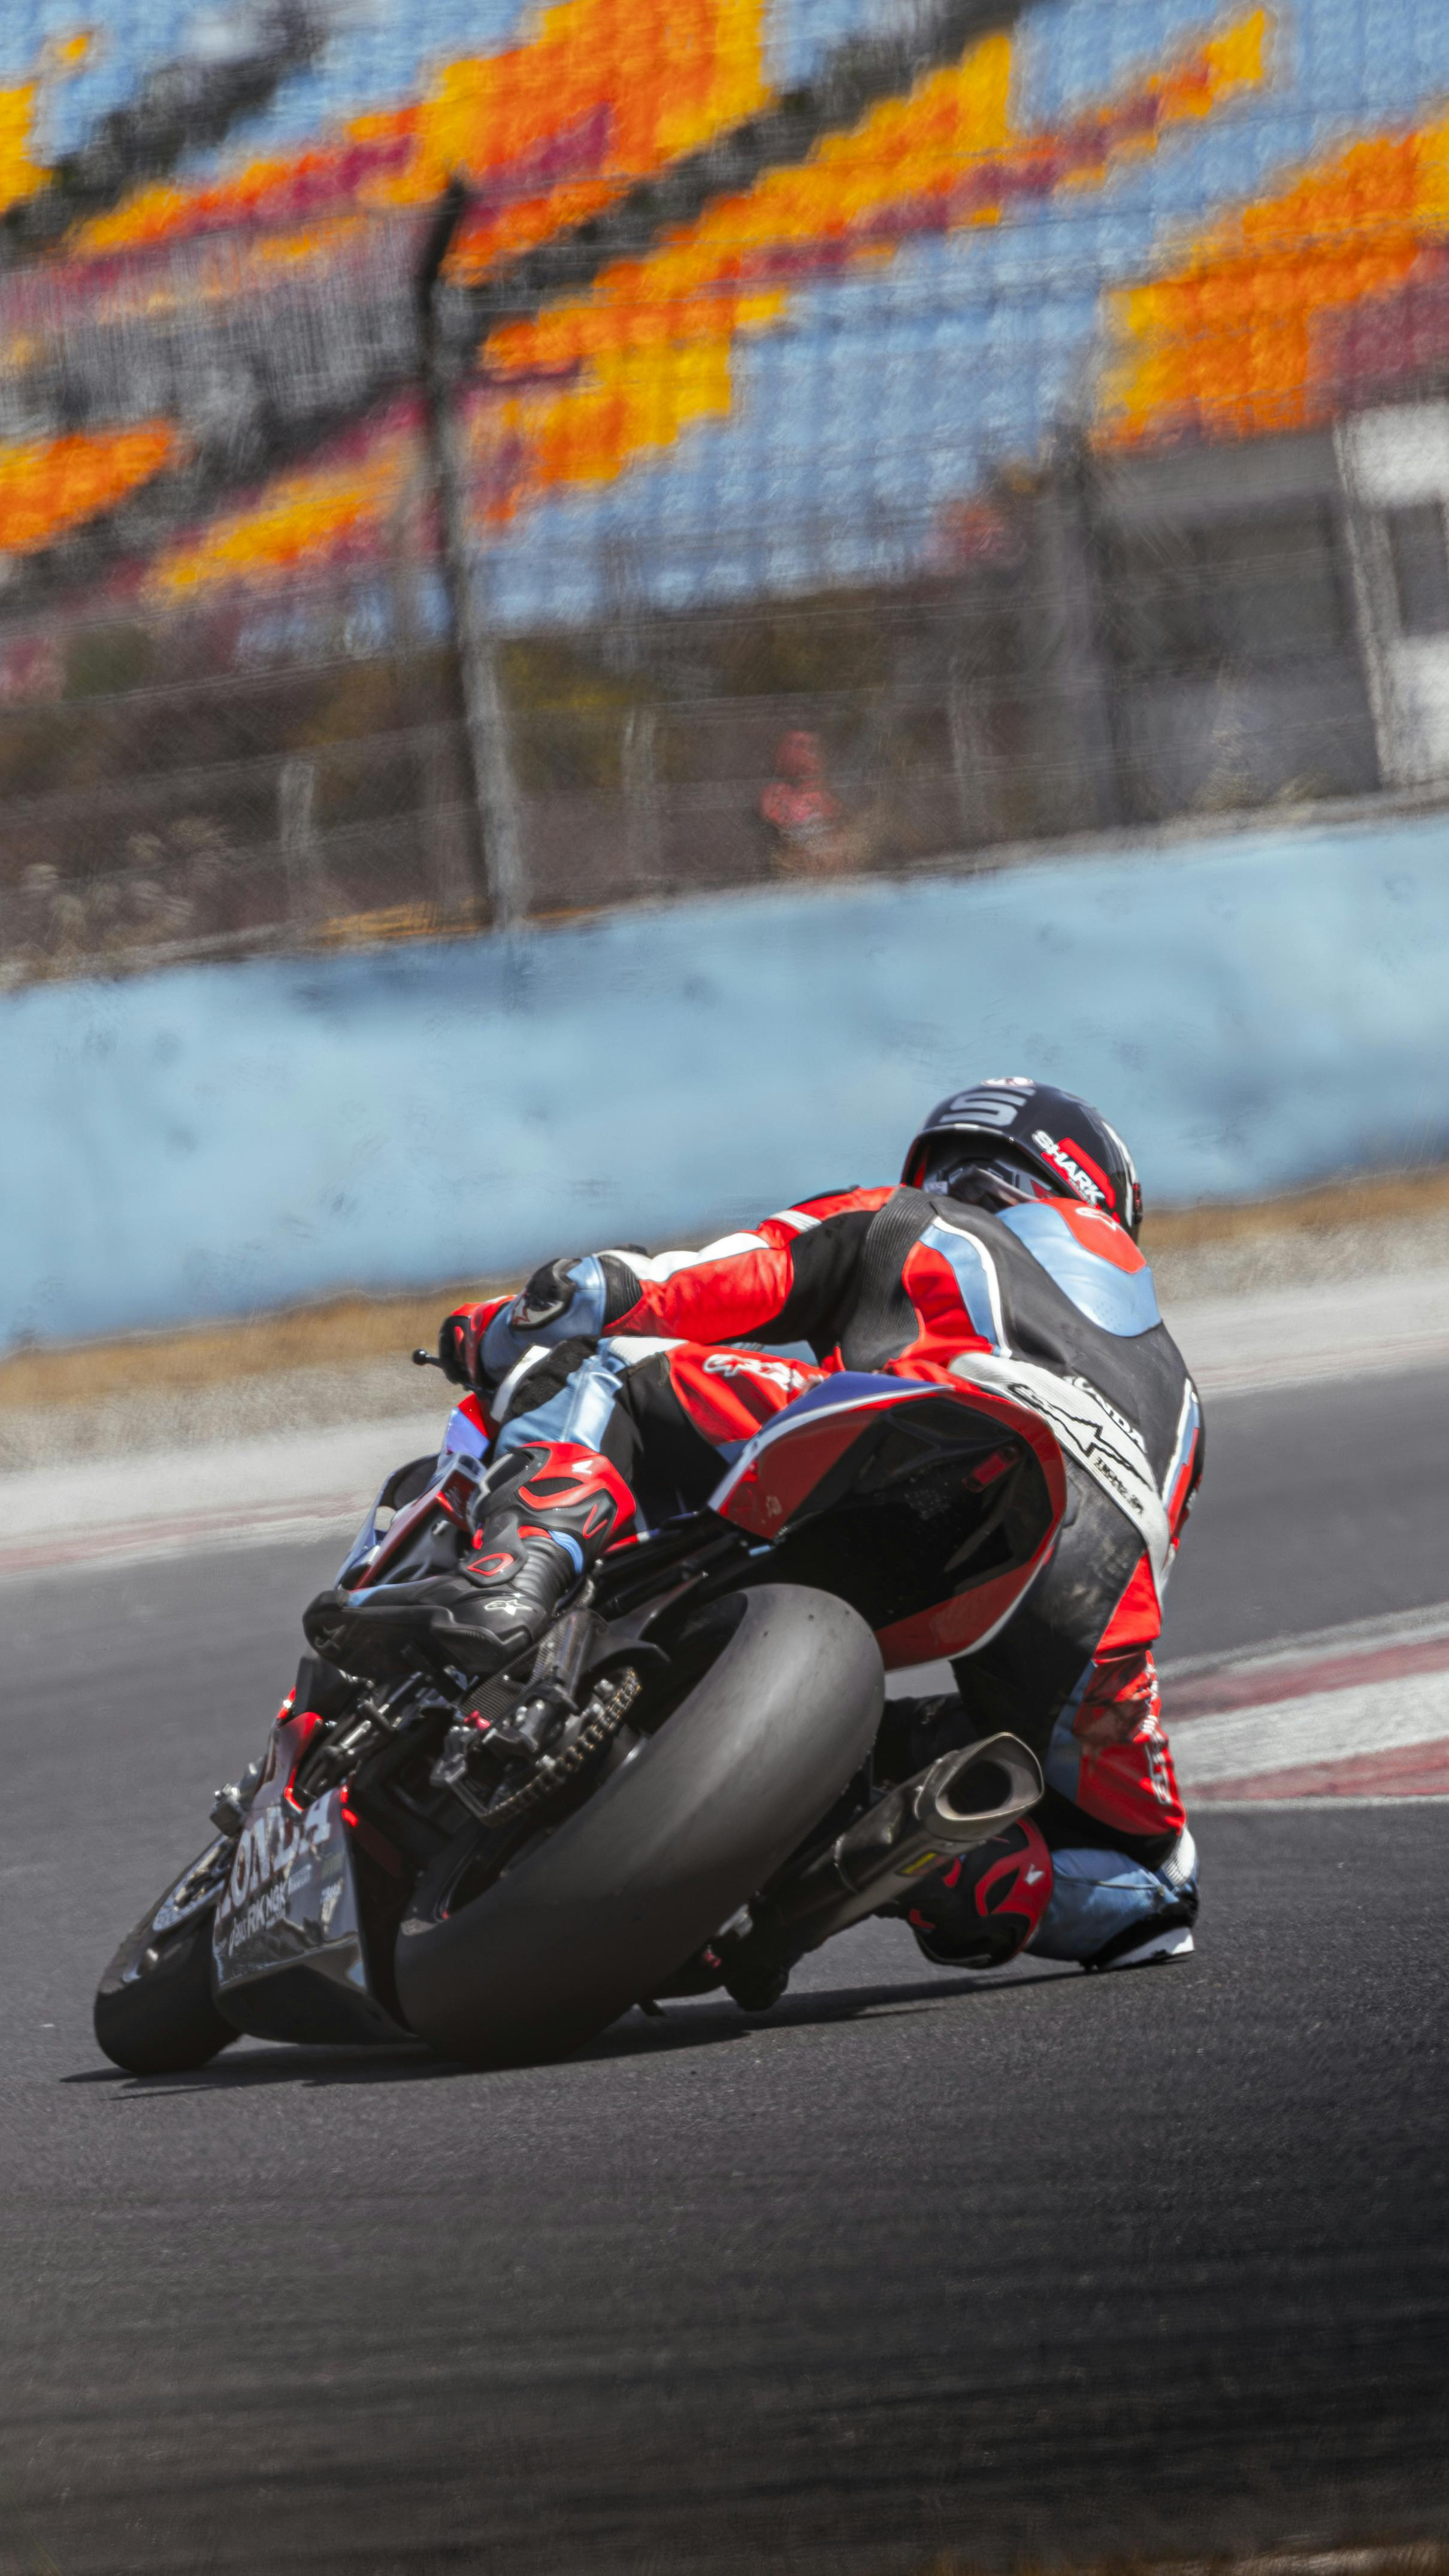capacete: (892, 1072, 1152, 1226)
